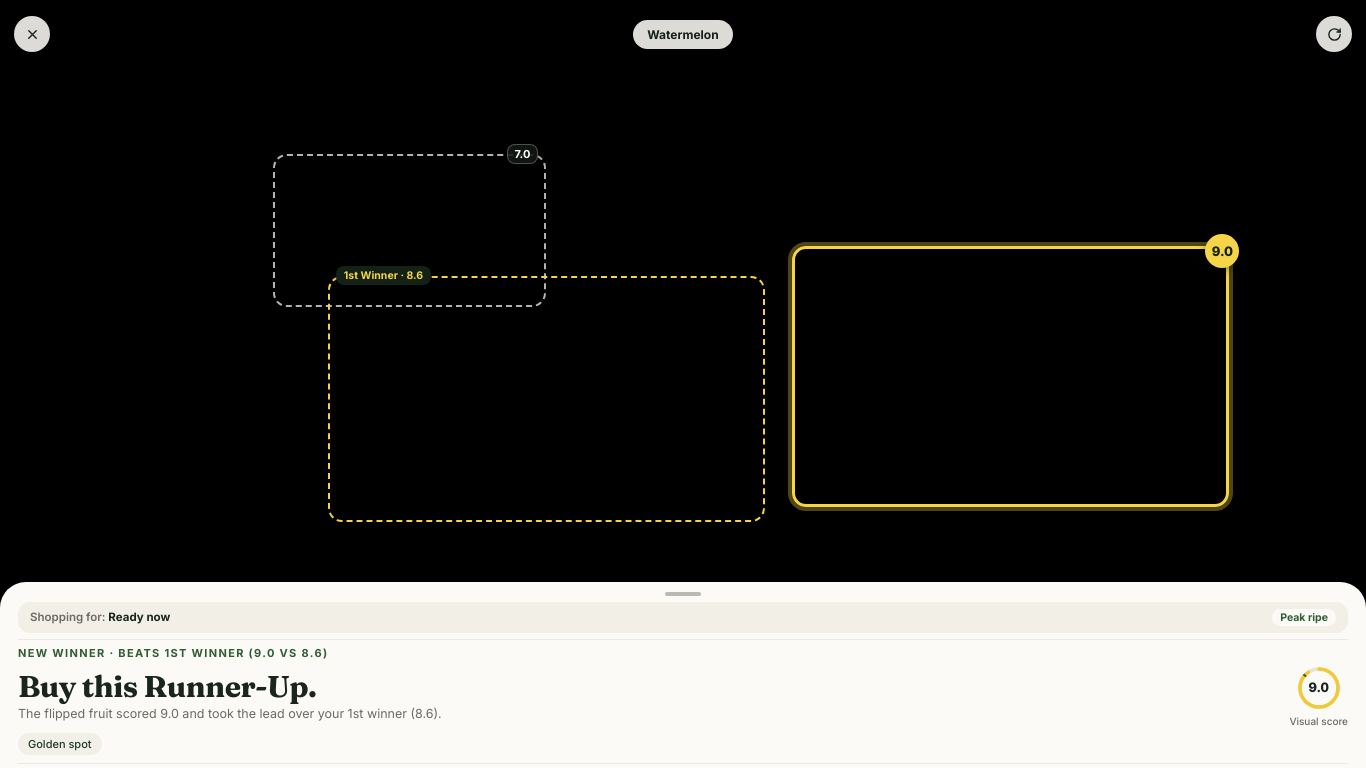
Test case: ResultStage (Mockup Parity) › renders S5B-2 (Runner-Up Took Lead) with winner on runnerUp, 1st pick marked, and tick mark
The image size is (1366, 768).
Expand bottom sheet to see headline and details
Click the button with test id "sheet-drag-area" at (683, 594), box [665, 592, 701, 596]
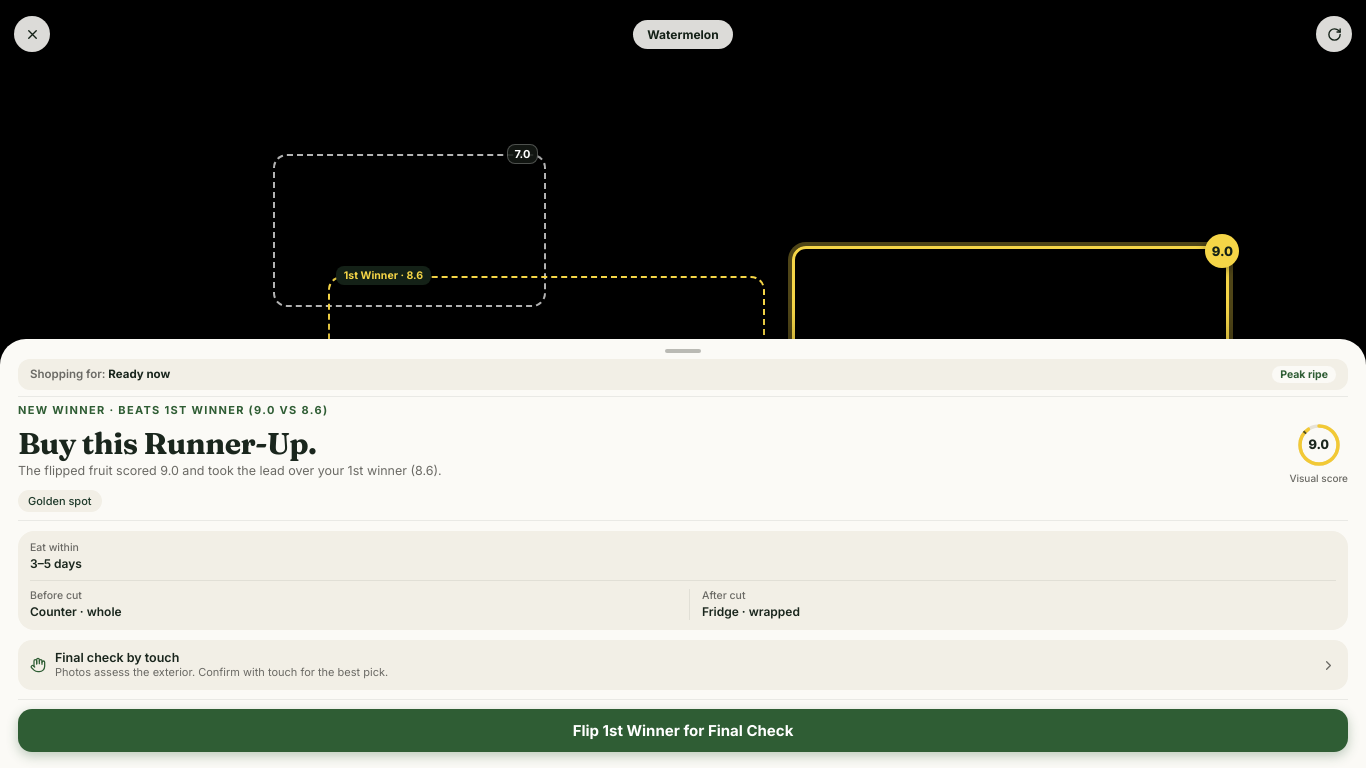
Expected: the text "NEW WINNER · BEATS 1ST WINNER (9.0 VS 8.6)" is shown, [18, 403, 328, 417]
Expected: the button with test id "cta-final-check-first-pick" is shown, [18, 709, 1348, 752]
